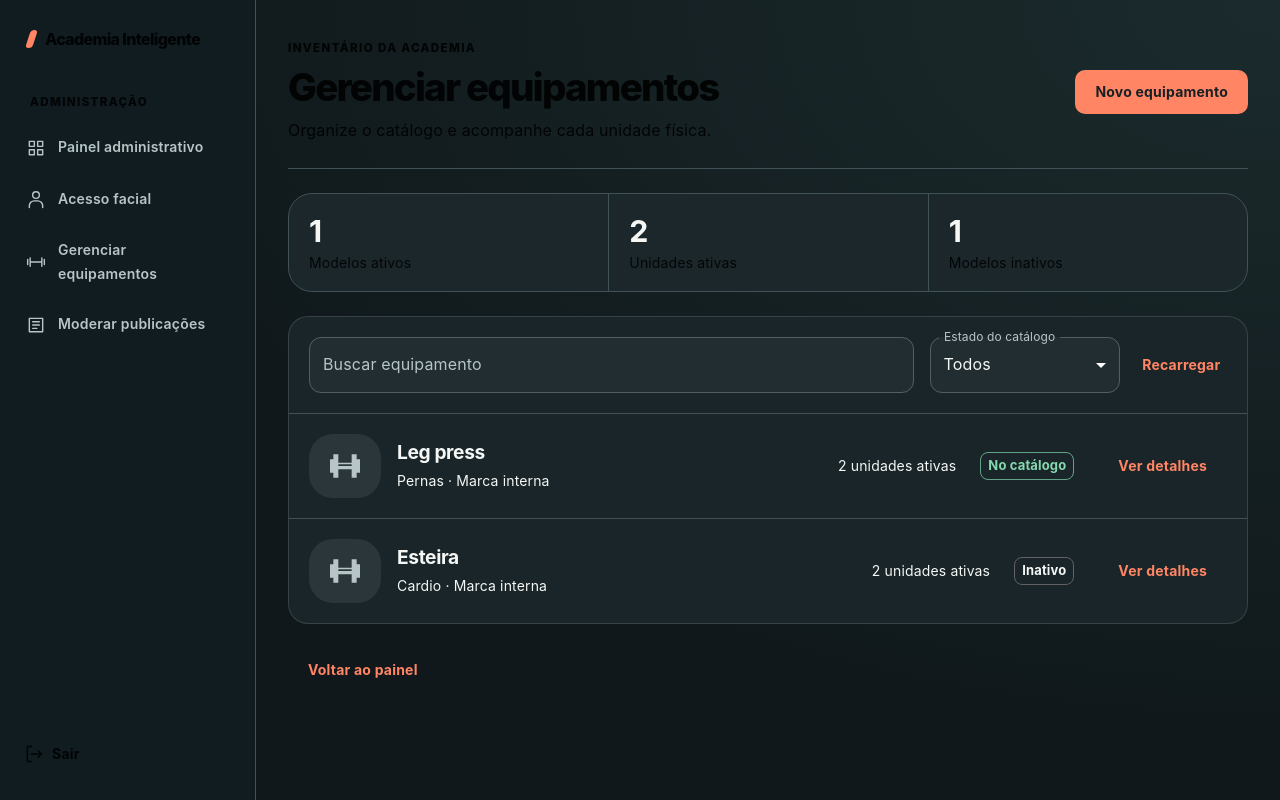
it: deactivation requires confirmation and cancellation makes no request
Click the button with aria-label "Ver detalhes de Leg press". click: x=1163, y=466
box: [1098,444,1227,488]
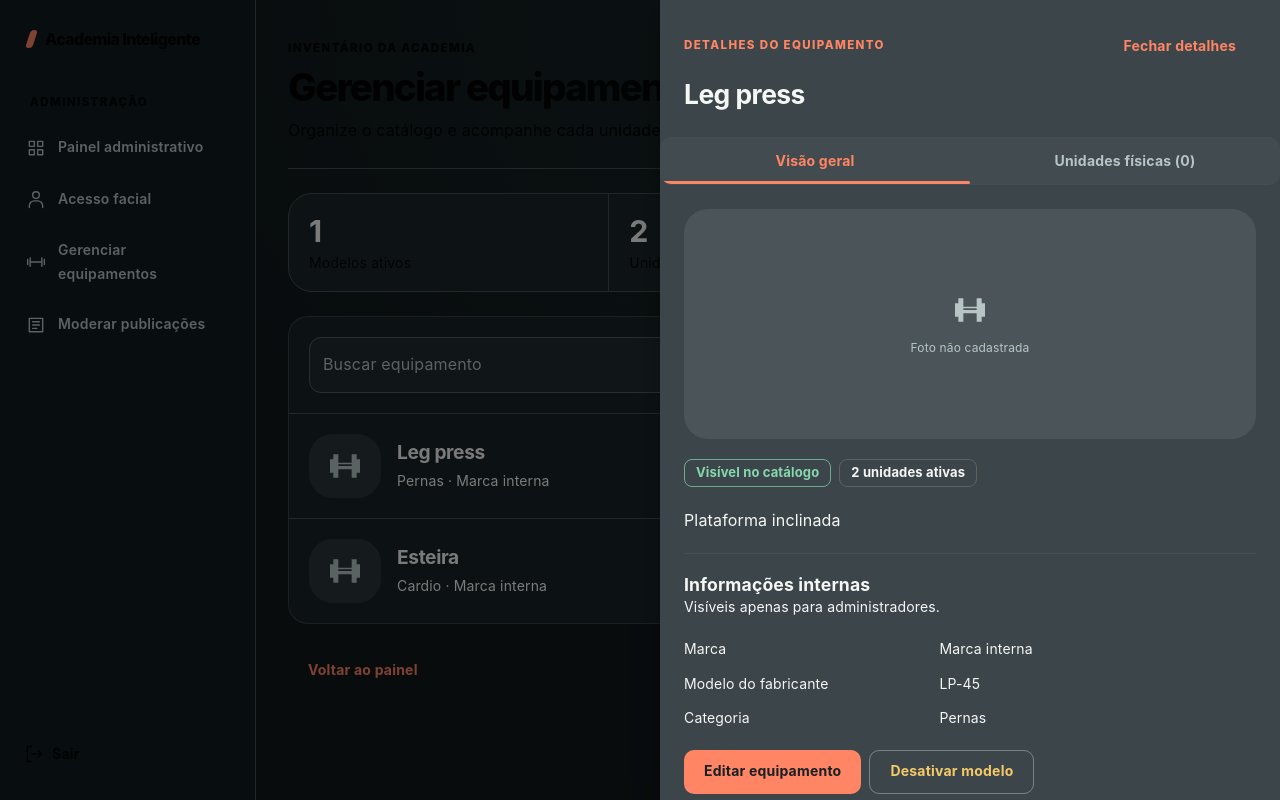
Click the button "Desativar modelo". click: x=952, y=772
box: [869,750,1034,794]
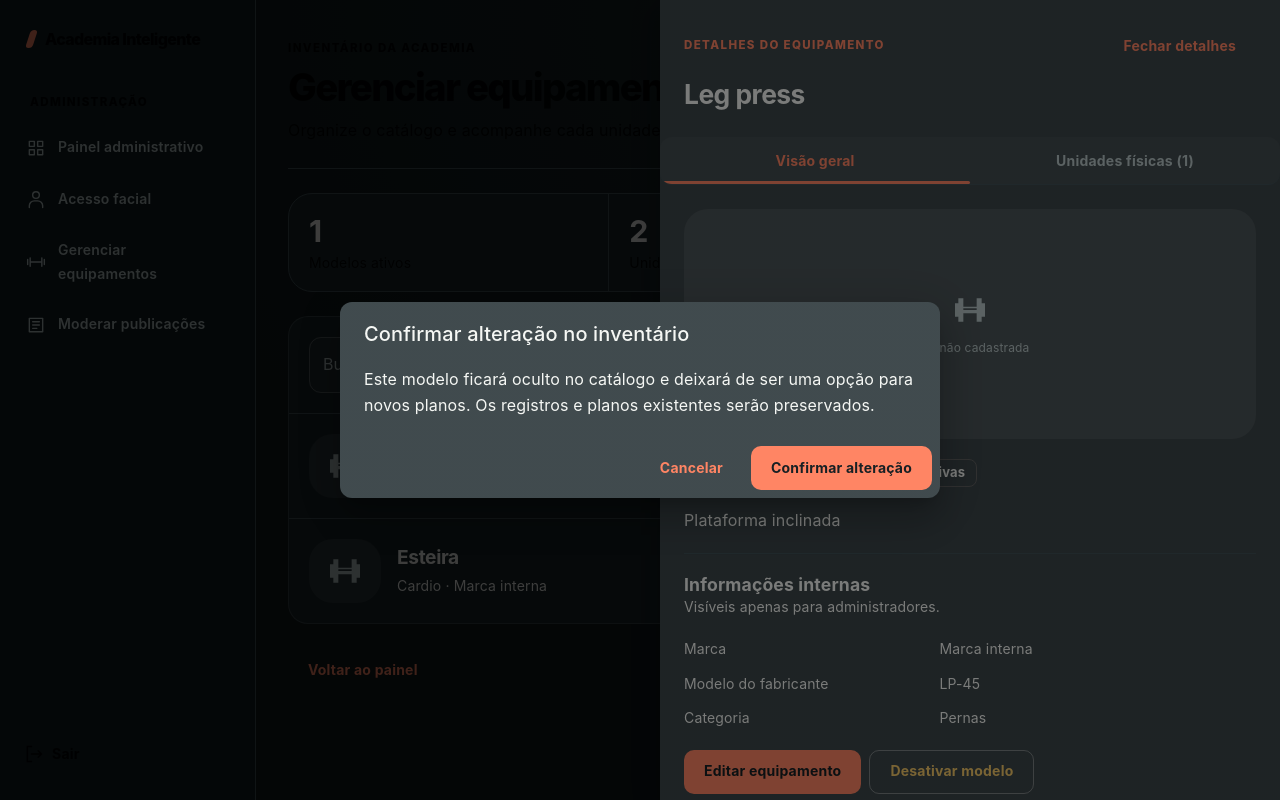
Click the button "Cancelar". click: x=691, y=468
box: [640,446,743,490]
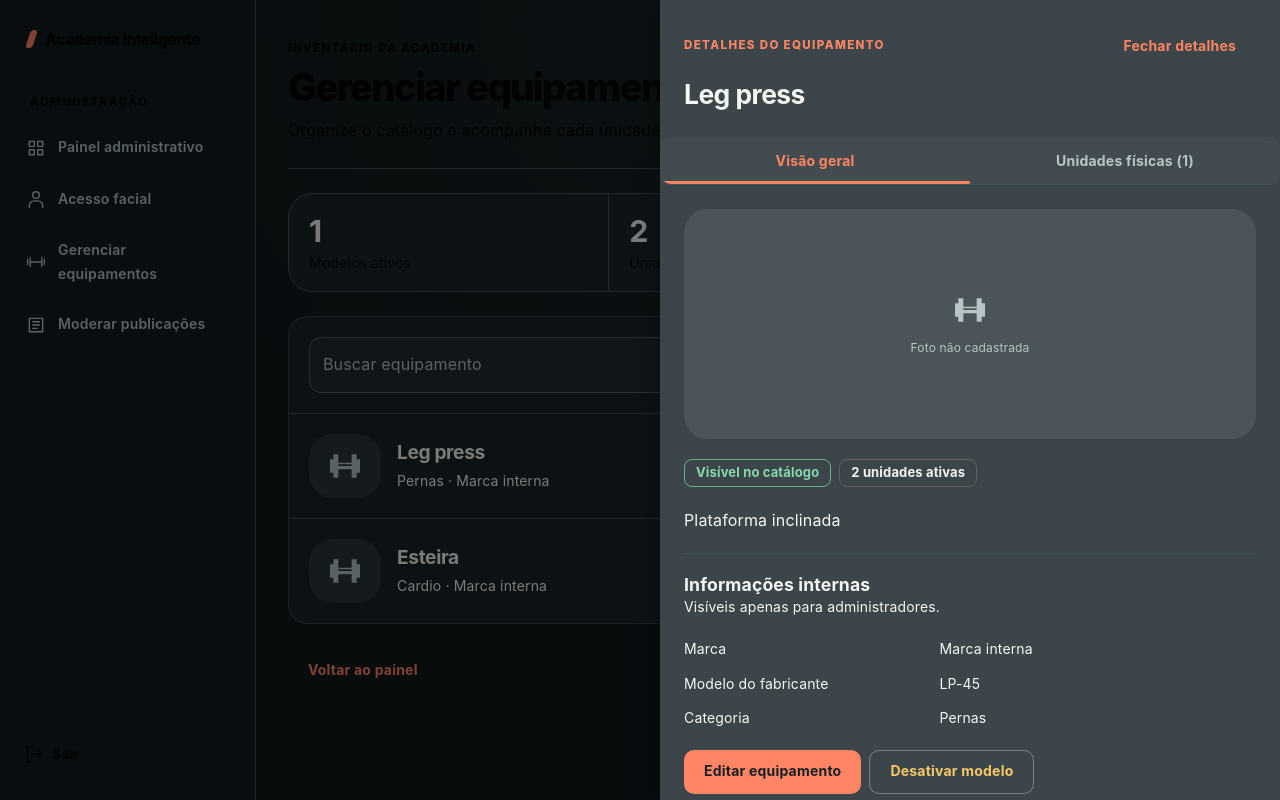
Now the heading "Confirmar alteração no inventário" is gone
Click the button "Desativar modelo". click: x=952, y=772
box: [869,750,1034,794]
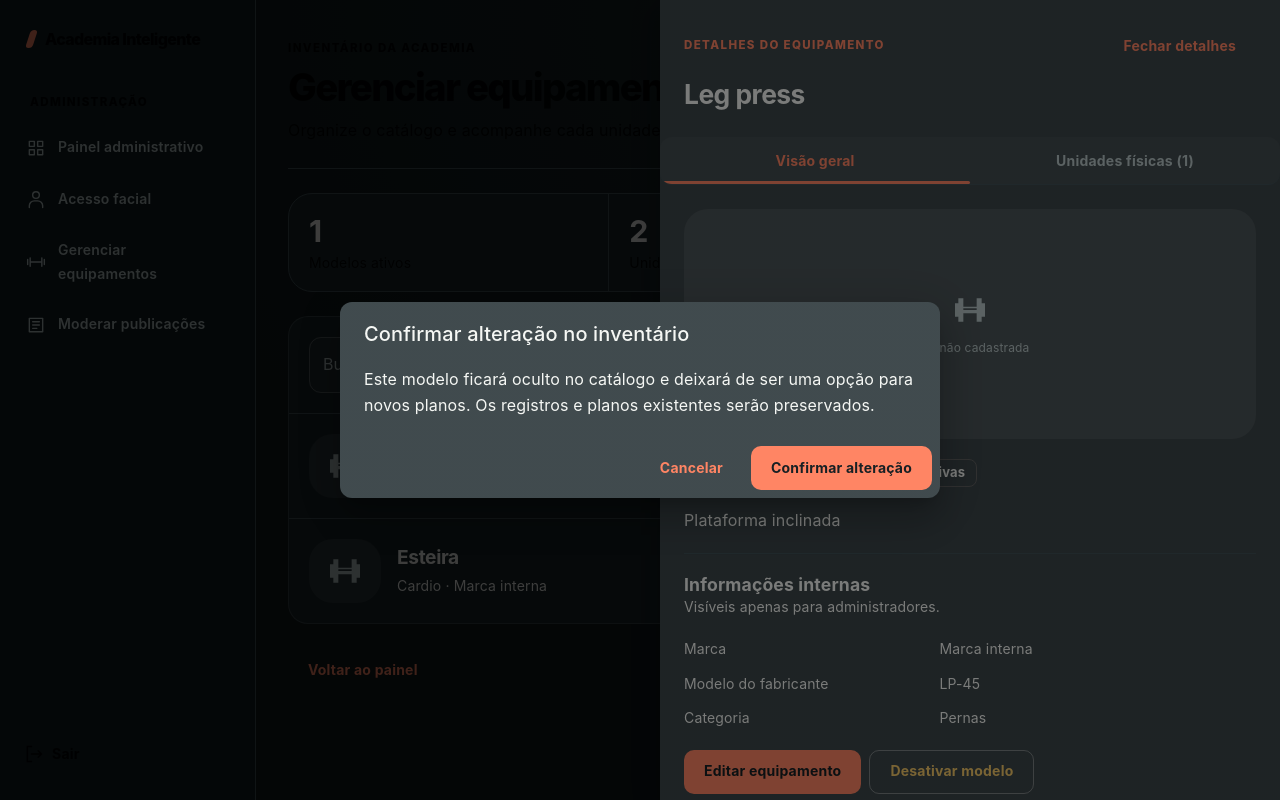
Click the button "Confirmar alteração". click: x=842, y=468
box: [751,446,932,490]
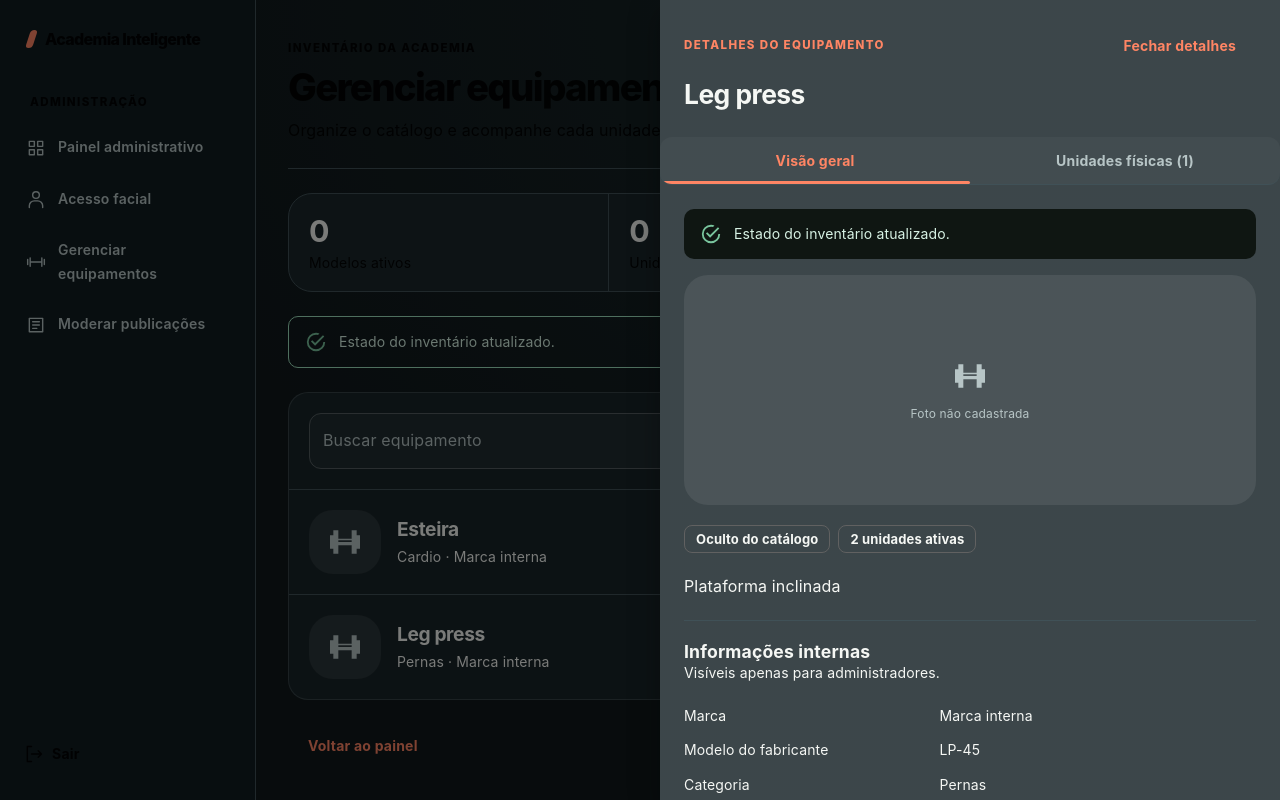
Now the text "Oculto do catálogo" is shown, box [696,531,818,547]
